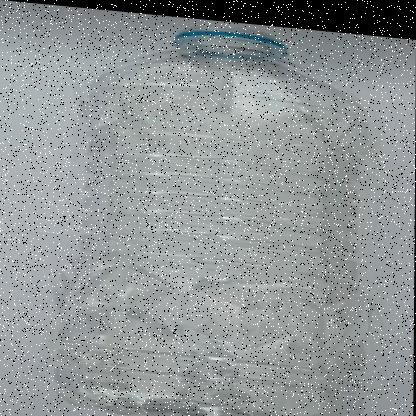open bottle: (75, 7, 387, 122)
